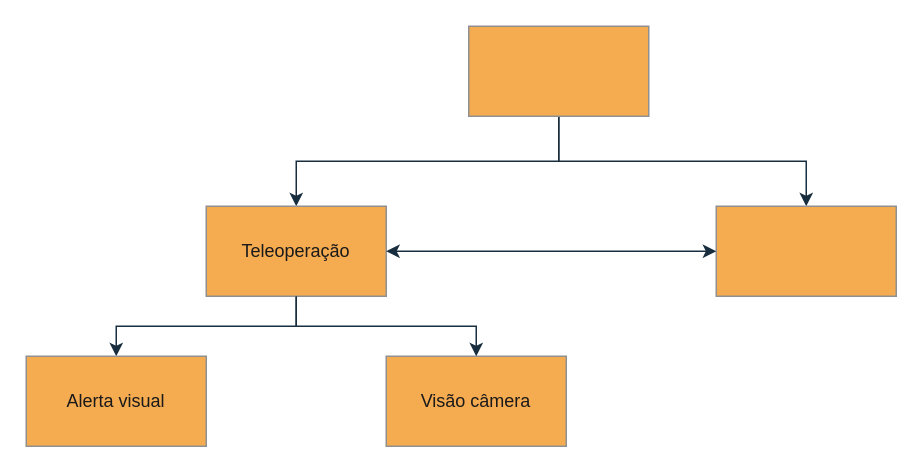
Image size: 923x473. Some labels were removed from this diagram. The shapes that lost their labels are listed below. From the top down, each one's centre as x and y in pixels, then its label:
At point (558, 70): "Login".
At point (805, 250): "Mapa de canos".
